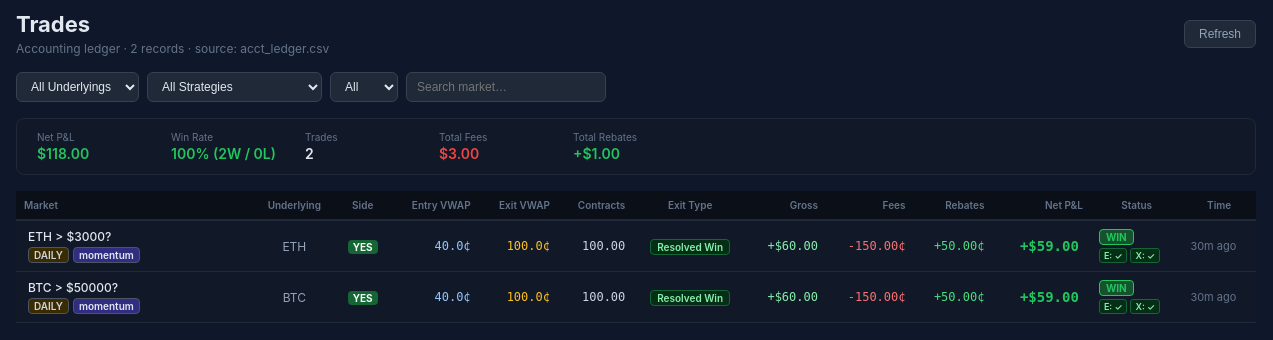
Test: Trades component › filters rows by search term in market title
Type "ETH" into the field with placeholder "Search market…" at [506, 87], box [406, 72, 606, 102]
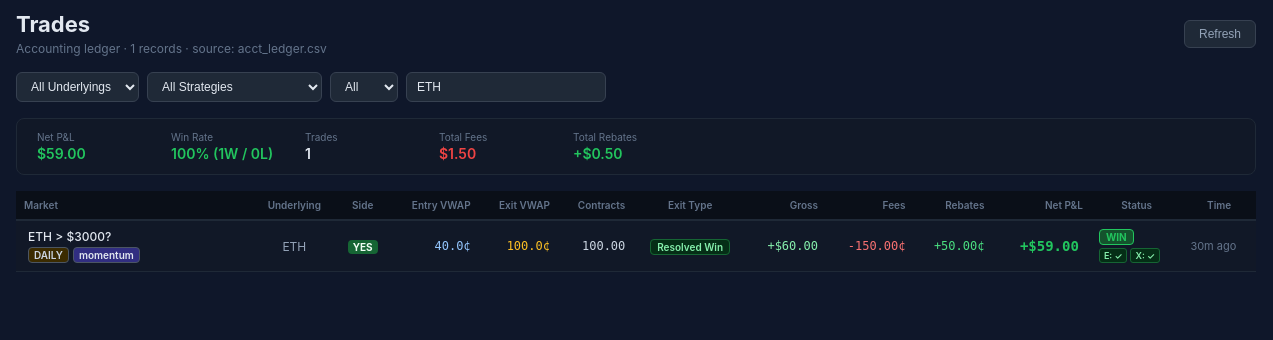
Expected: the text "ETH > $3000?" is shown, [28, 229, 111, 244]
Expected: the text "BTC > $50000?" is gone
